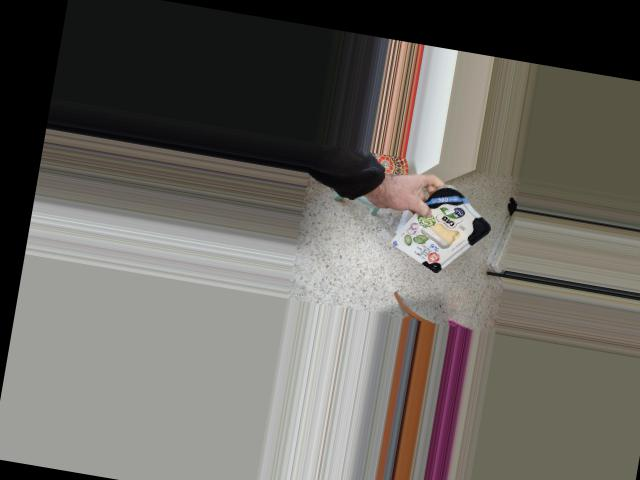cheese: (393, 176, 495, 288)
